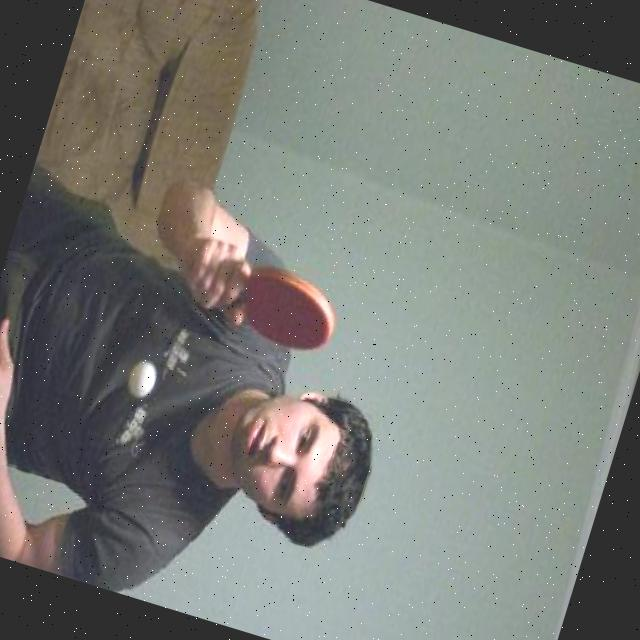ping-pong-ball: (122, 356, 162, 404)
